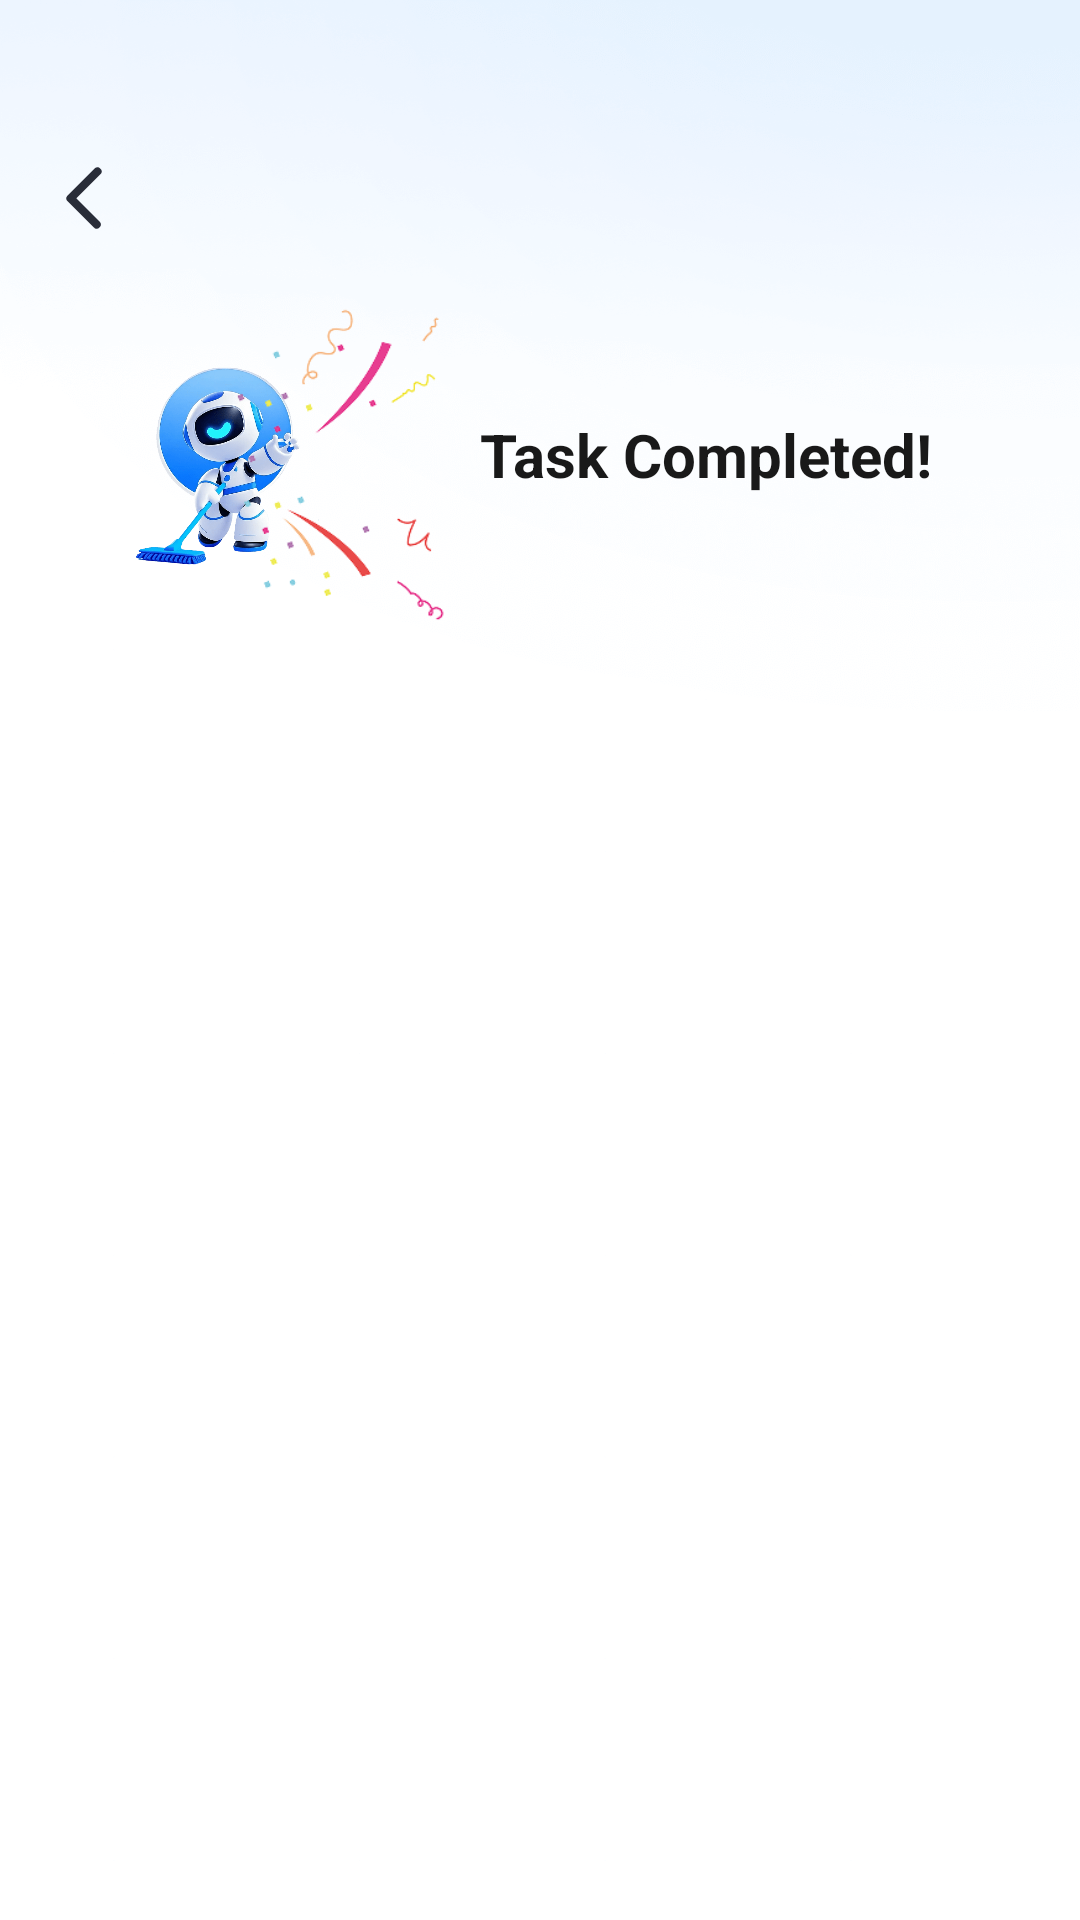

Icon bounding boxes for this 1080px×1920px phone screenshot, format box=[x1, y1, x2, y2]:
back: box=[66, 167, 102, 229]
